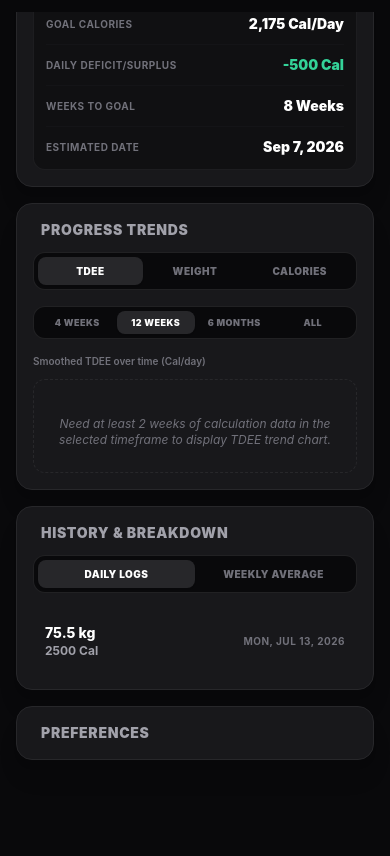
Scenario: TDEEScreen › weekly history › caps the breakdown at 20 weeks
(page scrolled)
Click the element with test id "weekly-average-tab": x=273, y=574 [223,568,324,580]
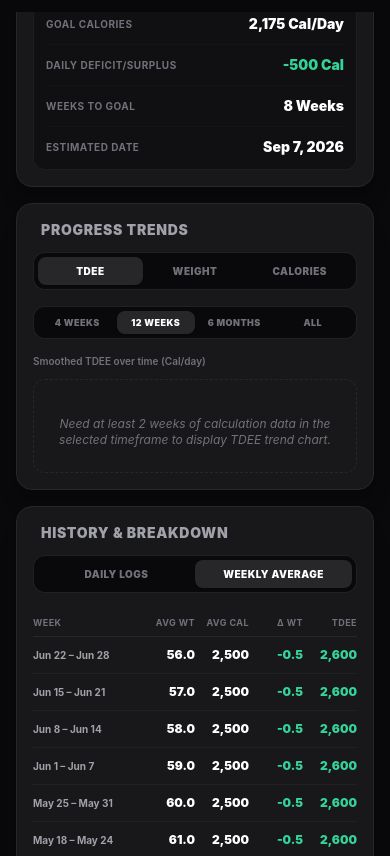
Expected: the text "-0.5" is shown 20 times
